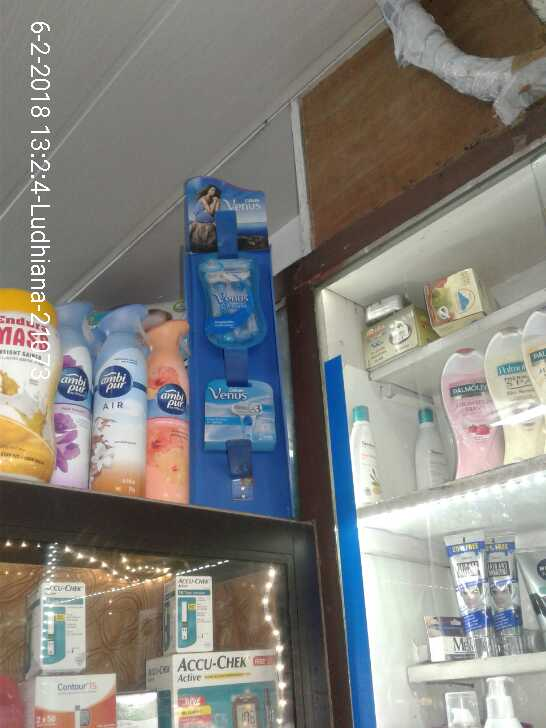beauty: (193, 250, 267, 352), (201, 368, 278, 455)
home: (96, 297, 146, 502), (52, 292, 96, 501), (146, 317, 192, 501)
